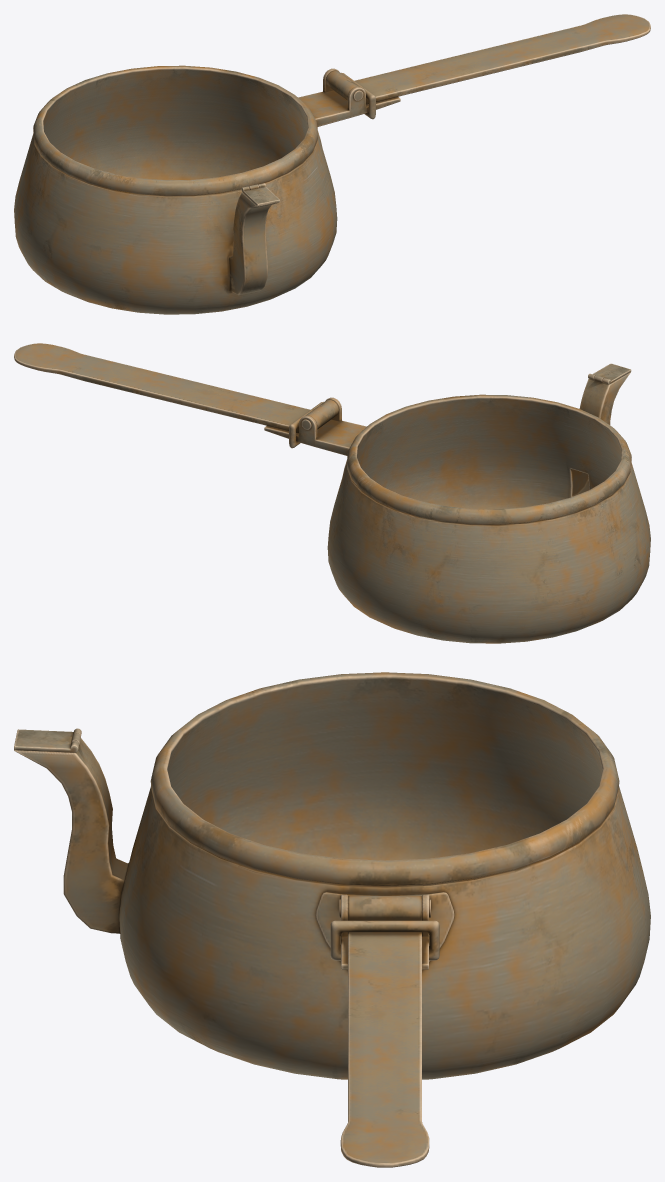
Rendered from SM_PotForMedicines.fbx.
3 renders of one model, top to bottom at view 1: azimuth 30°, elevation 25°; view 2: azimuth 150°, elevation 25°; view 3: azimuth 270°, elevation 25°, orthographic. The views are drawn at different scales.
Visible parts, largest first — view 1: SM_PotForMedicines; view 2: SM_PotForMedicines; view 3: SM_PotForMedicines.
Part boxes in pixels (x1,y1,x2,y2): SM_PotForMedicines: [14, 14, 650, 314]; SM_PotForMedicines: [14, 343, 650, 643]; SM_PotForMedicines: [14, 672, 650, 1167].
Size of the model in its own units: 30.93 by 7.33 by 16.99.
1 material, 1 textured.
